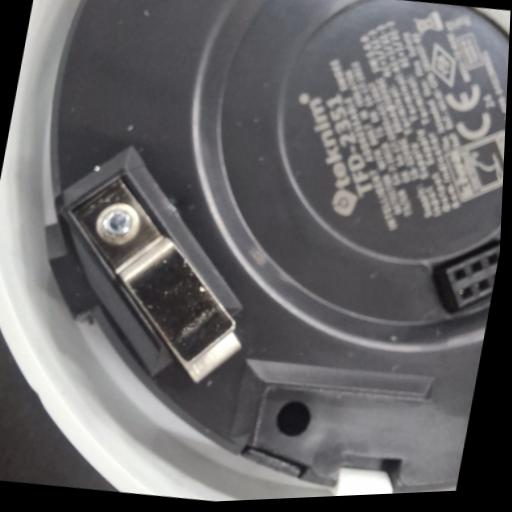yayli: (37, 158, 267, 392)
